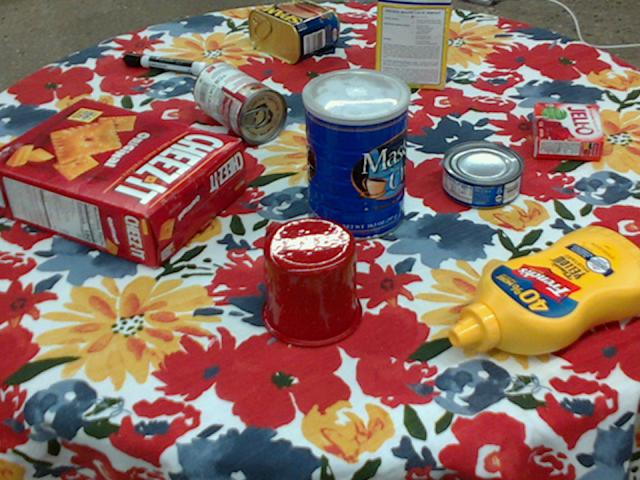cracker_box: (0, 98, 246, 266)
gelatin_box: (533, 103, 603, 162)
large_marker: (125, 52, 209, 75)
master_chef_can: (301, 68, 410, 241)
mug: (260, 216, 363, 348)
mustard_bottle: (451, 222, 639, 353)
potted_meat_can: (249, 0, 340, 63)
sugar_box: (375, 0, 453, 90)
tomato_soup_can: (192, 61, 287, 144)
tuna_fish_can: (444, 141, 526, 209)
